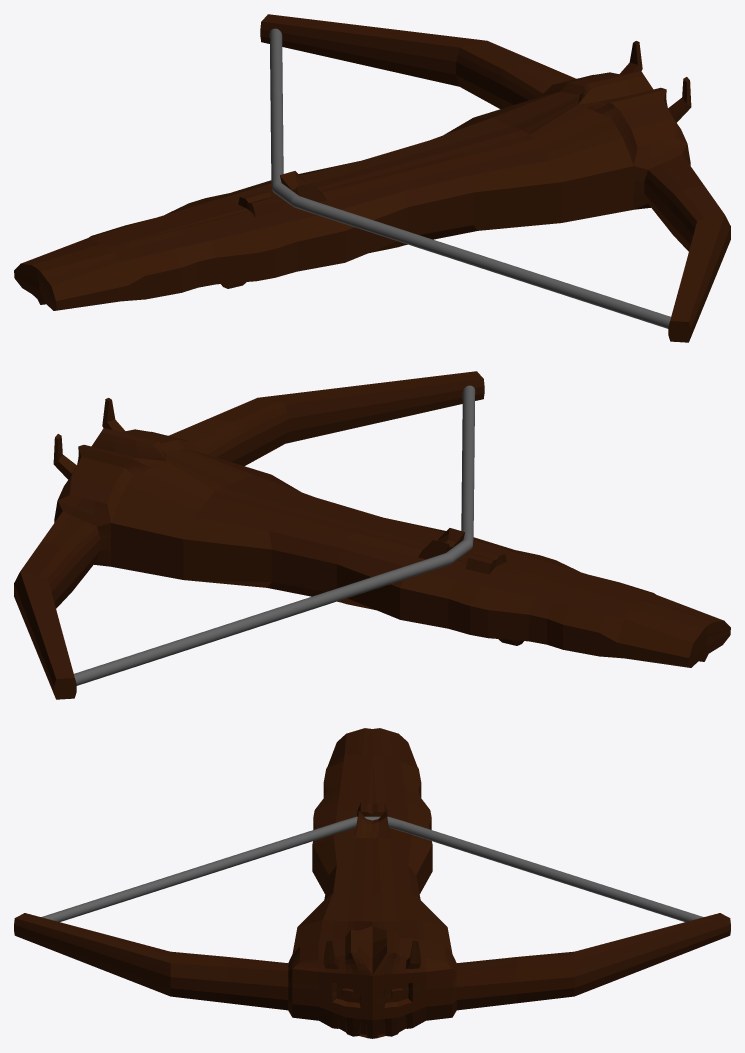
Rendered from Skull Crossbow 2.0.fbx.
The picture shows the model from 3 angles, top to bottom: view 1: azimuth 30°, elevation 25°; view 2: azimuth 150°, elevation 25°; view 3: azimuth 270°, elevation 25°; orthographic projection. The views are drawn at different scales.
Visible parts, largest first — view 1: Cube, NurbsPath; view 2: Cube, NurbsPath; view 3: Cube, NurbsPath.
Boxes of the visible parts, bbox=[...] form: Cube: bbox=[14, 14, 730, 342]; NurbsPath: bbox=[269, 28, 670, 328]; Cube: bbox=[14, 371, 730, 699]; NurbsPath: bbox=[74, 385, 475, 685]; Cube: bbox=[14, 728, 730, 1038]; NurbsPath: bbox=[41, 816, 703, 921].
Size of the model in its own units: 154 by 28.62 by 179.
